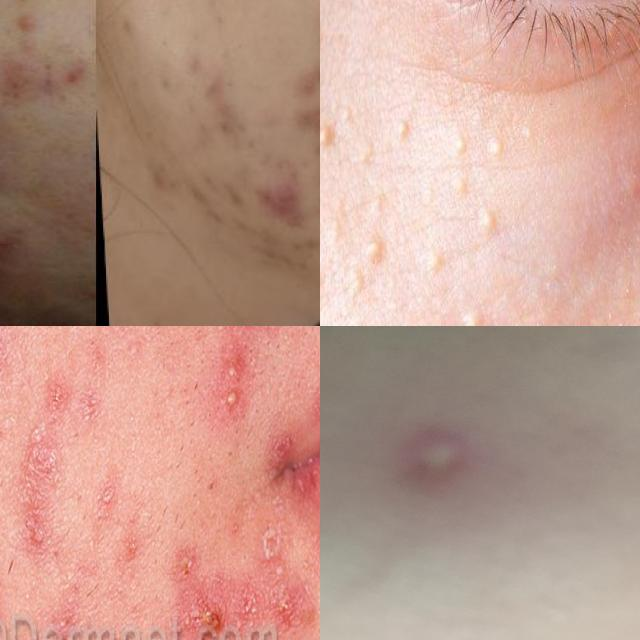comedone: (212, 67, 245, 99)
milium: (441, 125, 516, 242), (341, 201, 398, 311), (320, 91, 355, 165), (433, 288, 490, 326), (363, 312, 415, 326), (320, 15, 330, 84)
papule: (245, 176, 318, 239)
